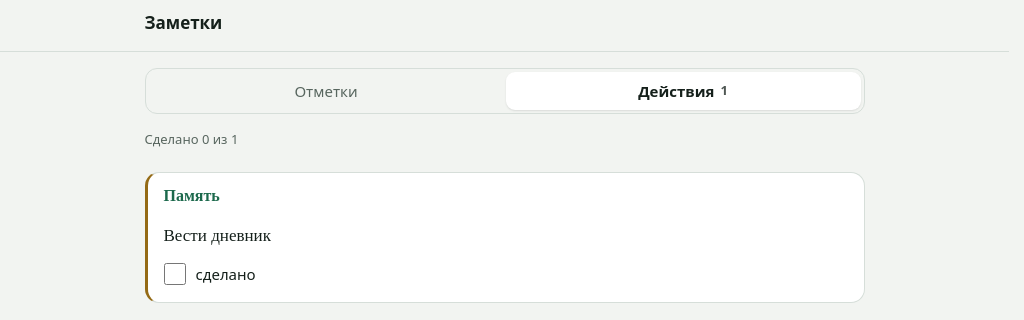
it: NotesScreen: действия › галочка «сделано» сохраняет действие в базе и на экране
Click the checkbox labelled "сделано" at (174,274), box left=164, top=263, right=186, bottom=285
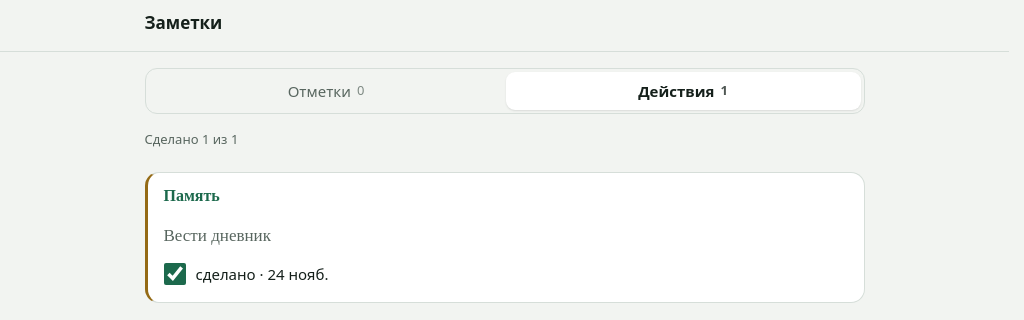
Expected: the text "Вести дневник" is shown, left=164, top=222, right=271, bottom=248
Expected: the checkbox labelled "сделано · 24 нояб." is checked
Expected: the text with class "notes__summary" reads "Сделано 1 из 1", left=144, top=130, right=238, bottom=148
и обратно: галочка снимается, время «сделано» пропадает
Click the checkbox labelled "сделано · 24 нояб." at (174,274), box left=164, top=263, right=186, bottom=285
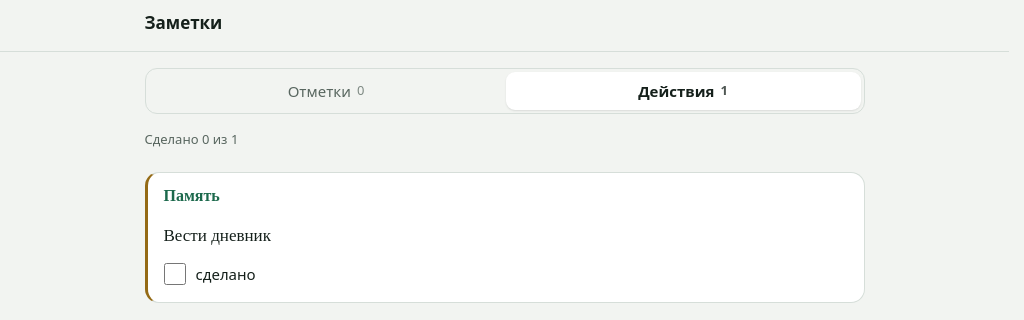
Expected: the checkbox labelled "сделано" is not checked, left=164, top=263, right=186, bottom=285
